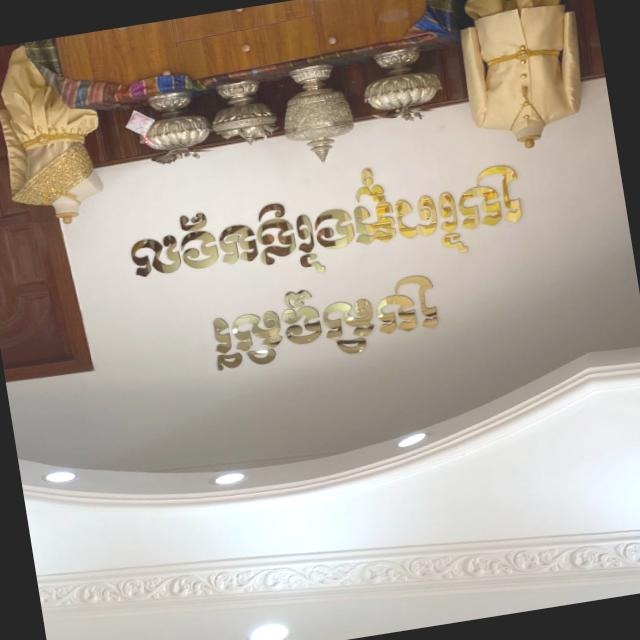Yolov11_80vkh: (113, 137, 534, 308), (192, 265, 449, 383)
